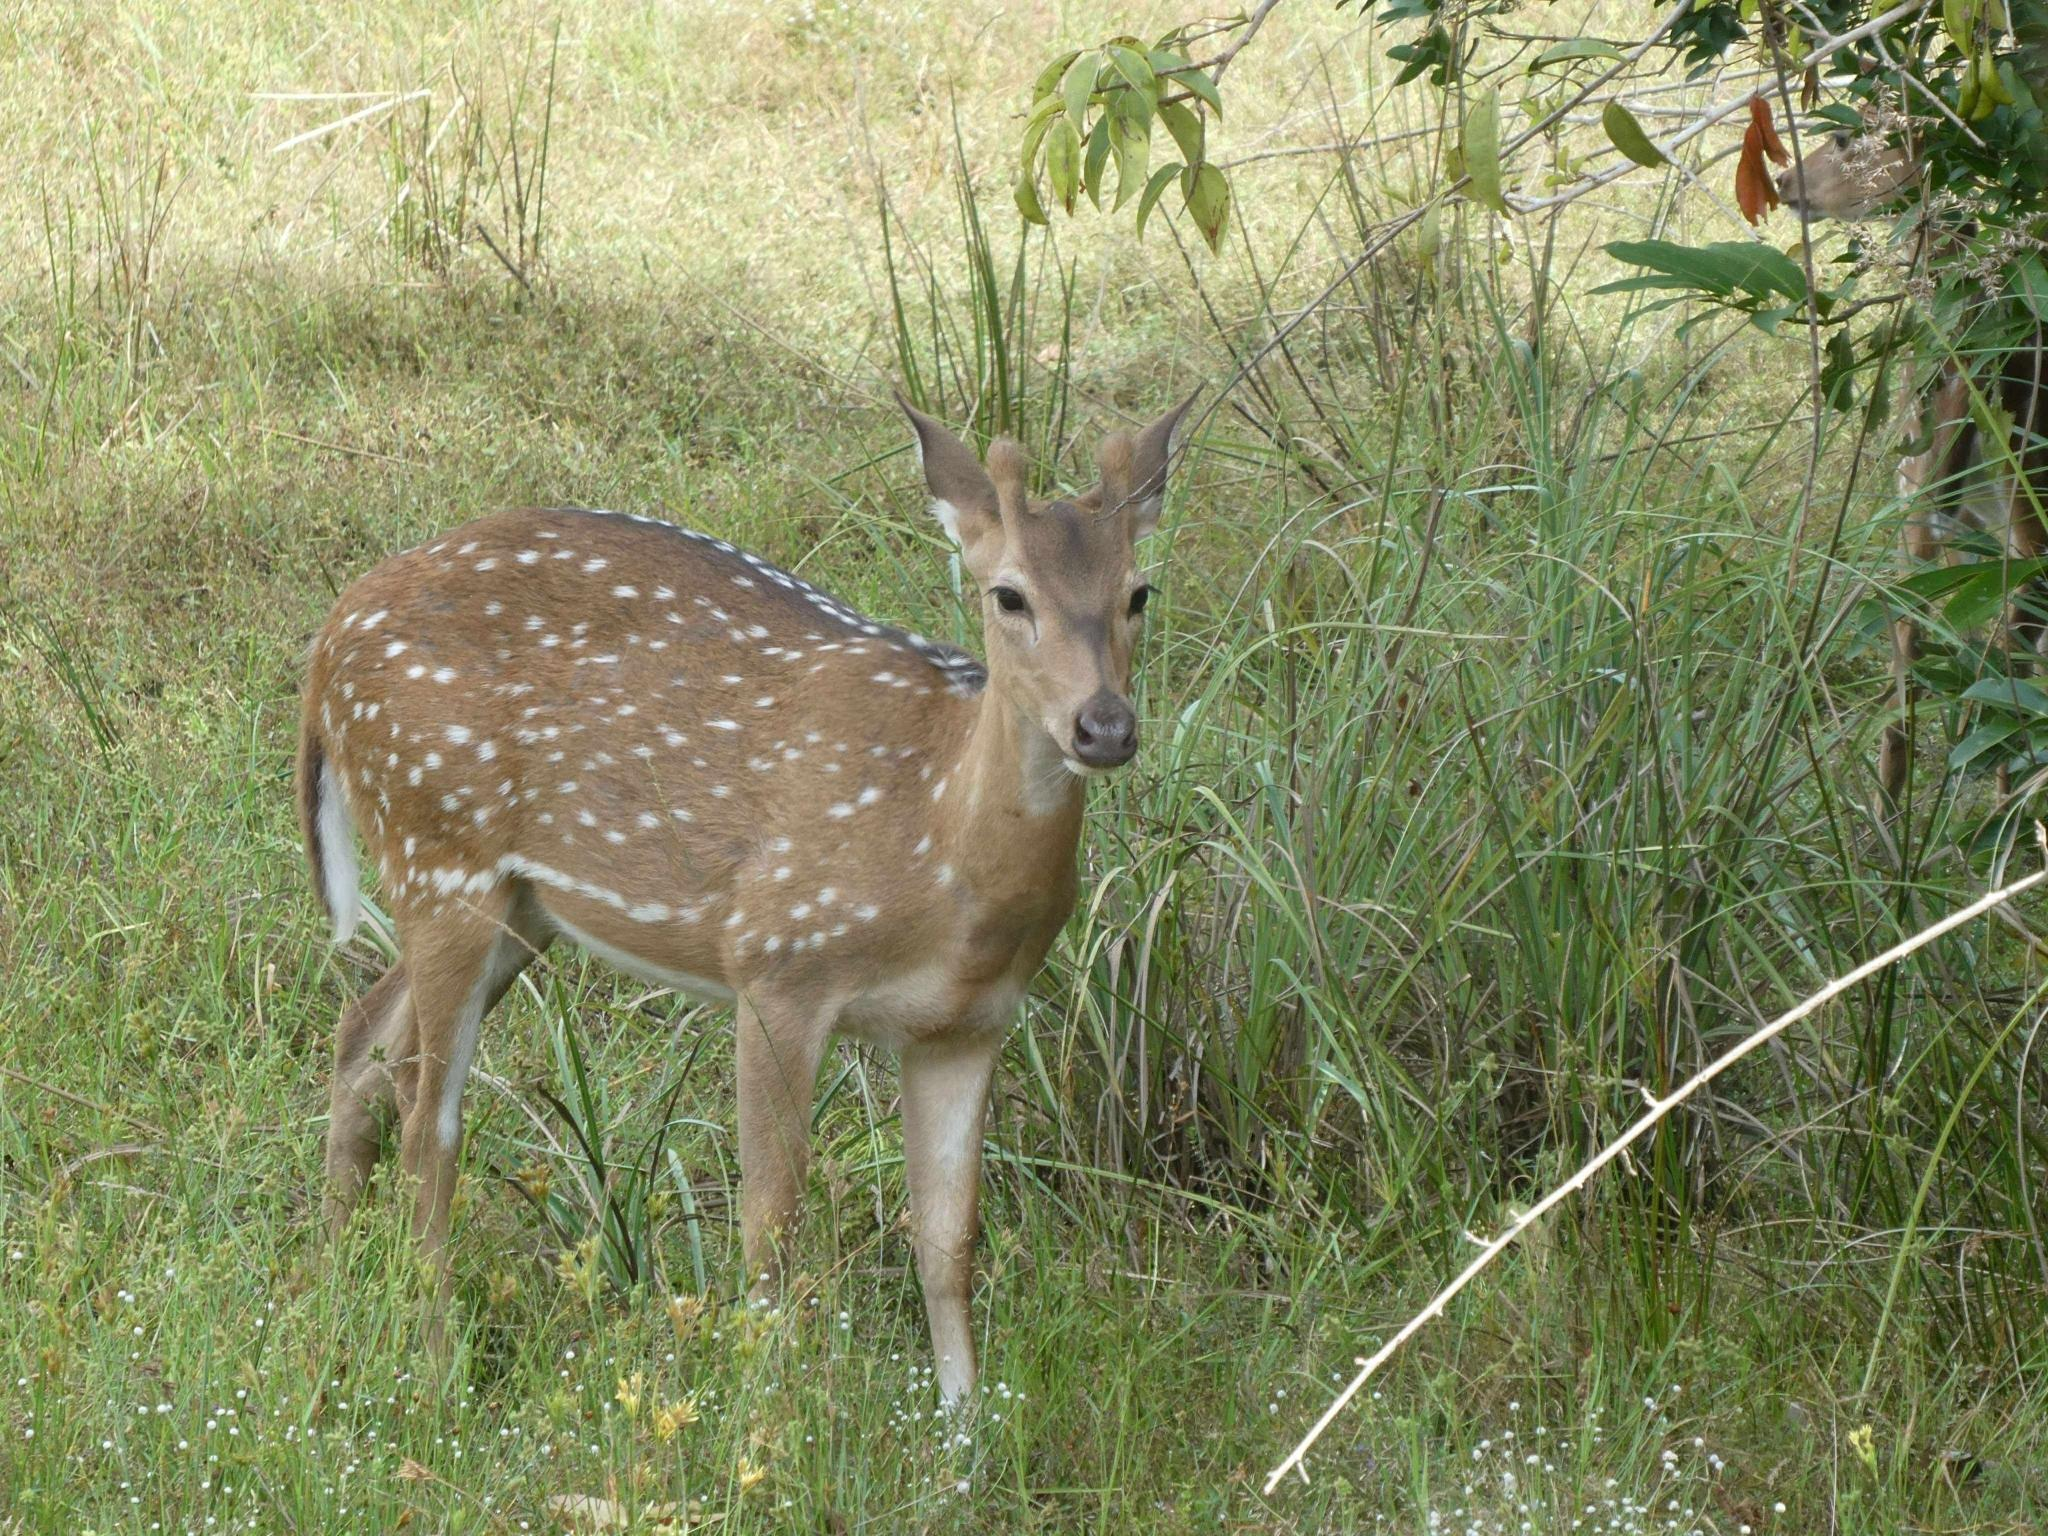Deer: (297, 407, 1185, 1400)
